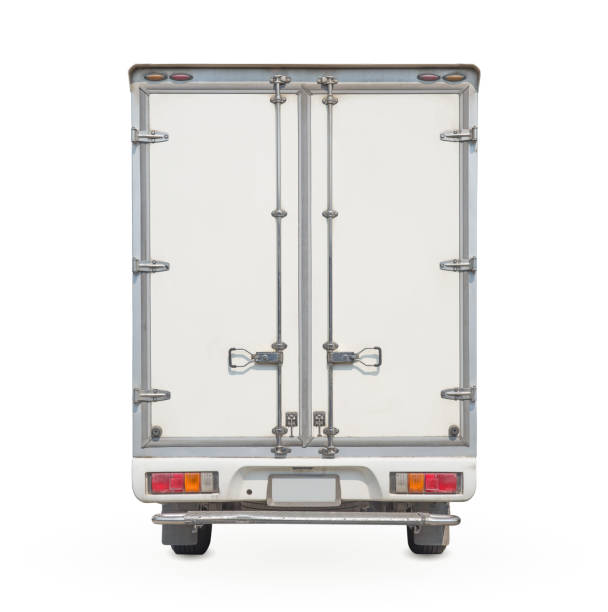Semi: (126, 61, 480, 556)
